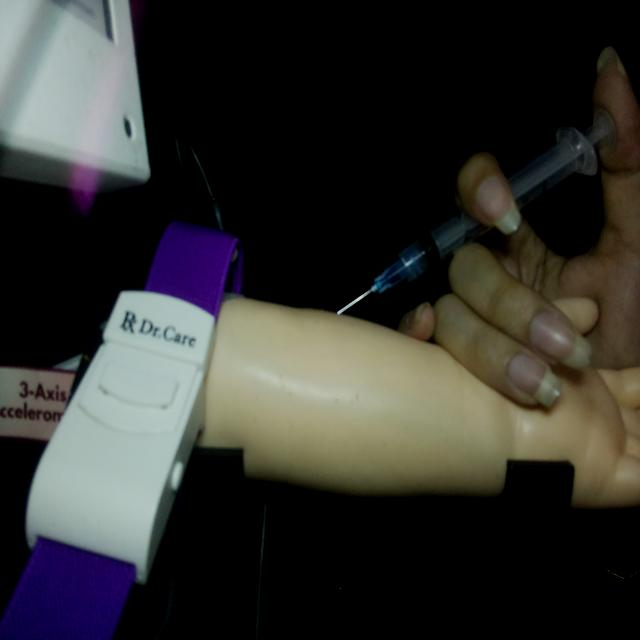22 degrees: (336, 105, 620, 319)
